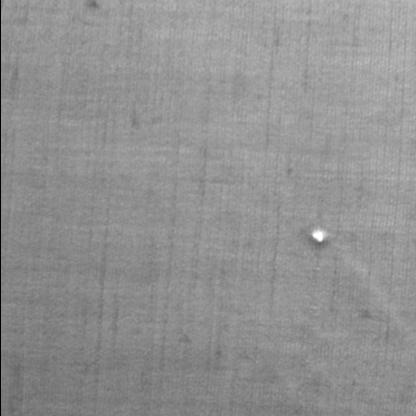hole: (307, 227, 328, 244)
